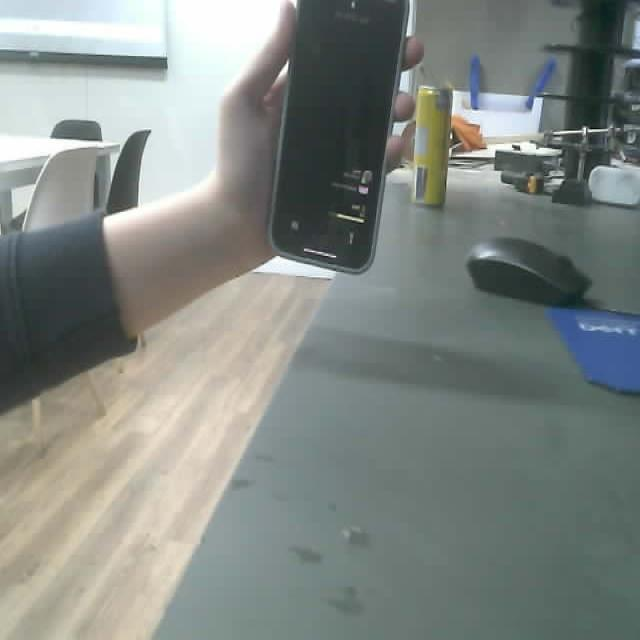phone: (266, 0, 418, 275)
